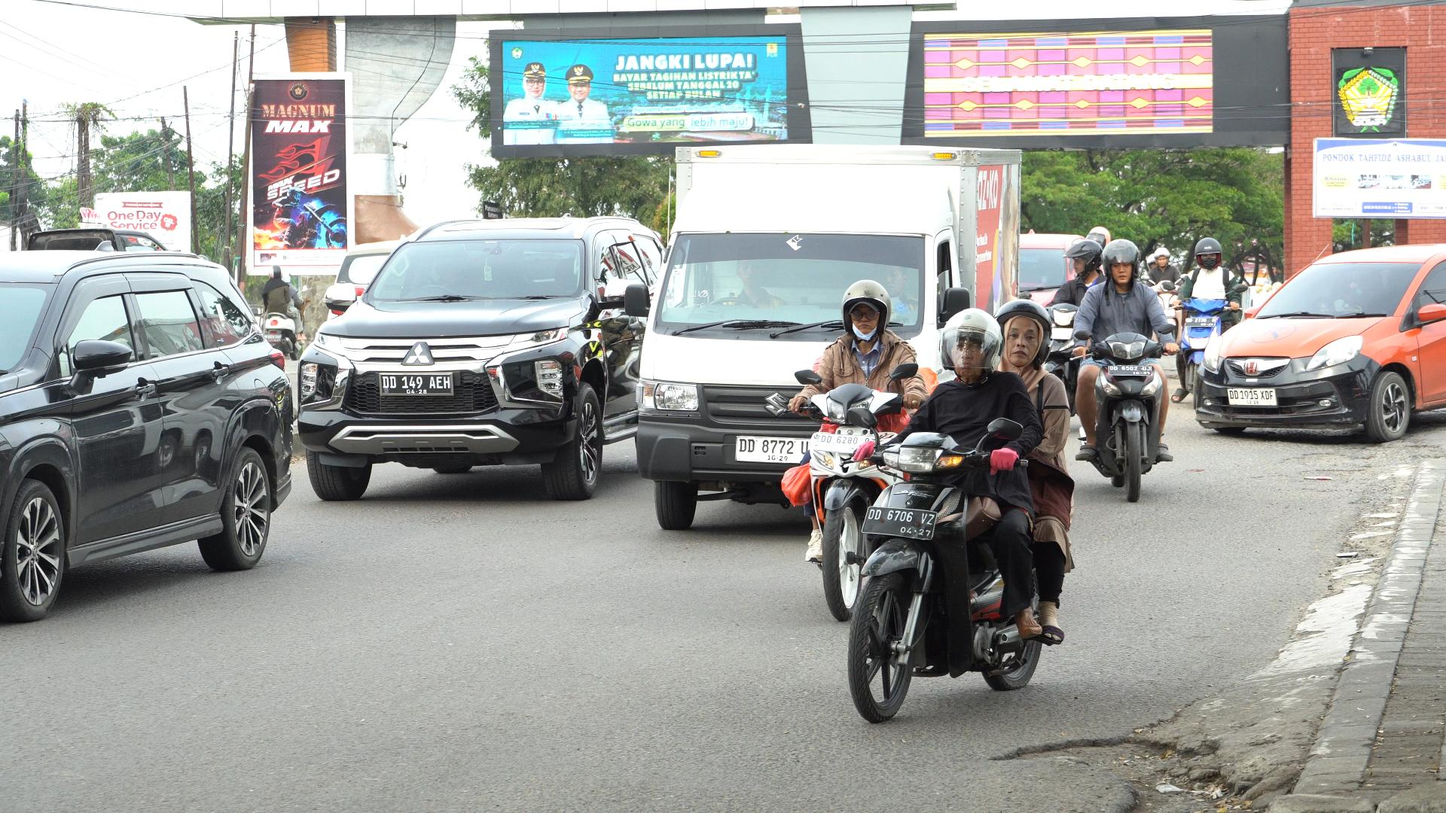number-plate: (863, 505, 931, 533)
